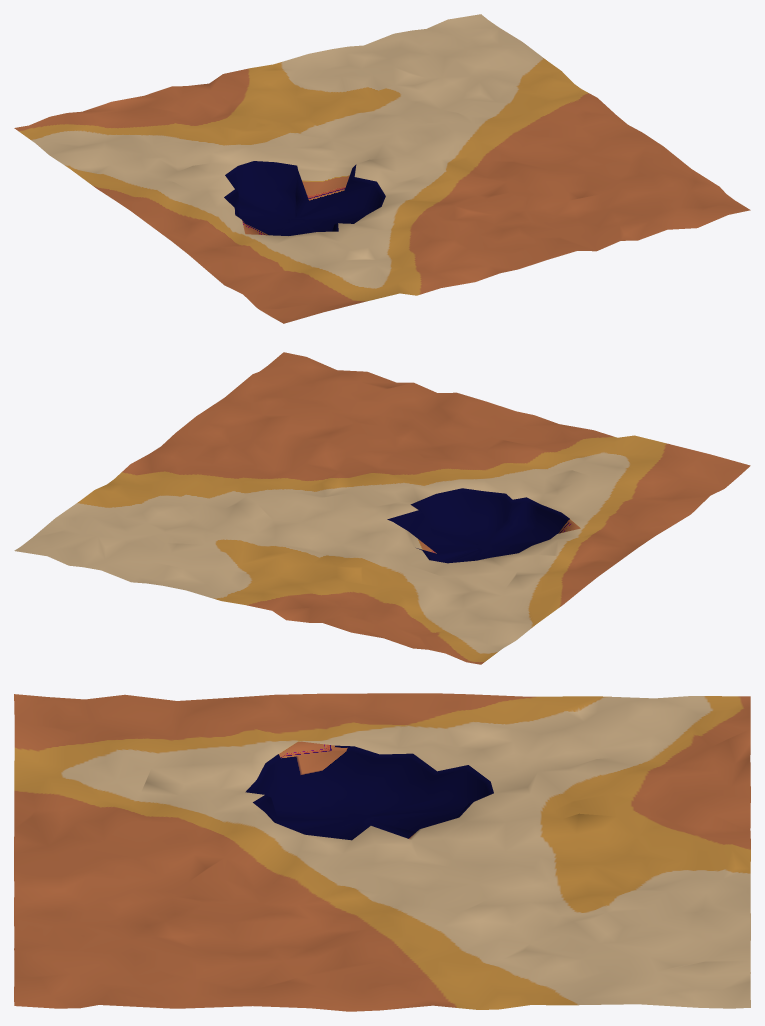
The model's file is ground.glb.
3 renders of one model, top to bottom at view 1: azimuth 30°, elevation 25°; view 2: azimuth 150°, elevation 25°; view 3: azimuth 270°, elevation 25°, orthographic. The views are drawn at different scales.
Parts seen in each view (by area): view 1: Plane; view 2: Plane; view 3: Plane.
Part boxes in pixels (bbox=[...]): Plane: bbox=[14, 14, 750, 323]; Plane: bbox=[14, 352, 750, 664]; Plane: bbox=[14, 693, 750, 1011].
Bounding box in the file's own units: 228 × 13.07 × 228.
Materials: 2 (1 with a texture image).
